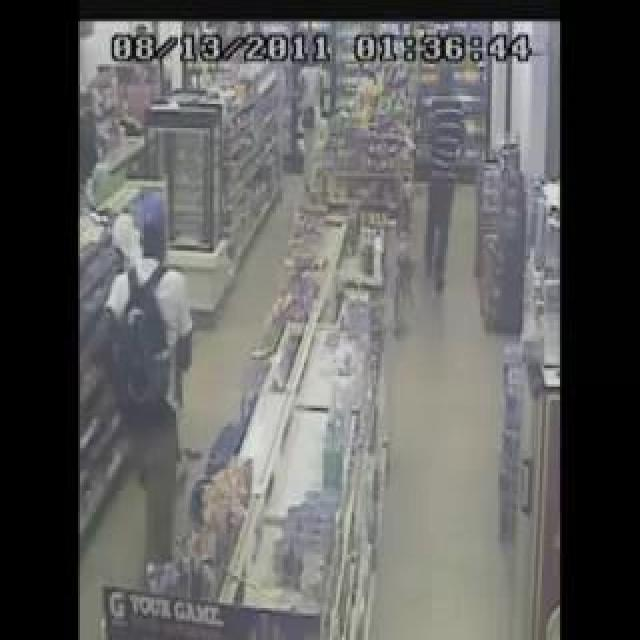thief: (120, 205, 201, 322), (424, 67, 498, 187)
